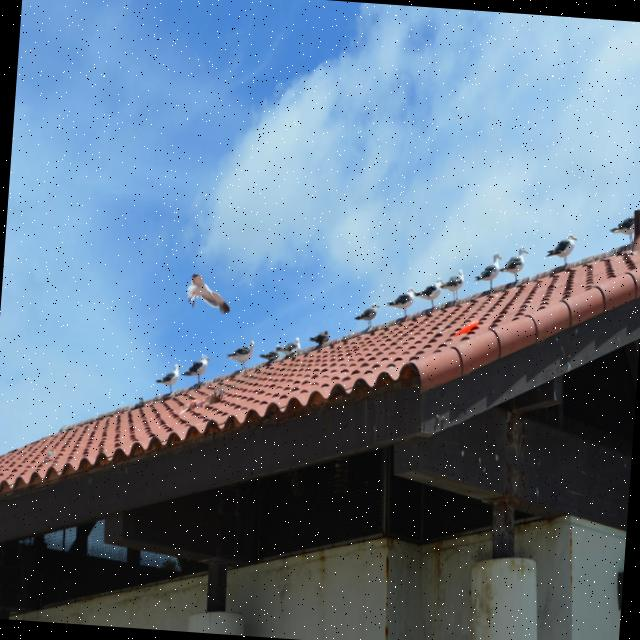bird: (184, 271, 234, 316), (606, 206, 640, 254), (498, 243, 530, 288), (472, 249, 503, 293), (544, 230, 578, 270), (413, 274, 446, 313), (225, 337, 256, 374), (384, 286, 416, 321), (180, 352, 210, 386), (440, 265, 466, 304), (352, 298, 381, 332), (154, 360, 182, 395), (308, 328, 330, 349)
